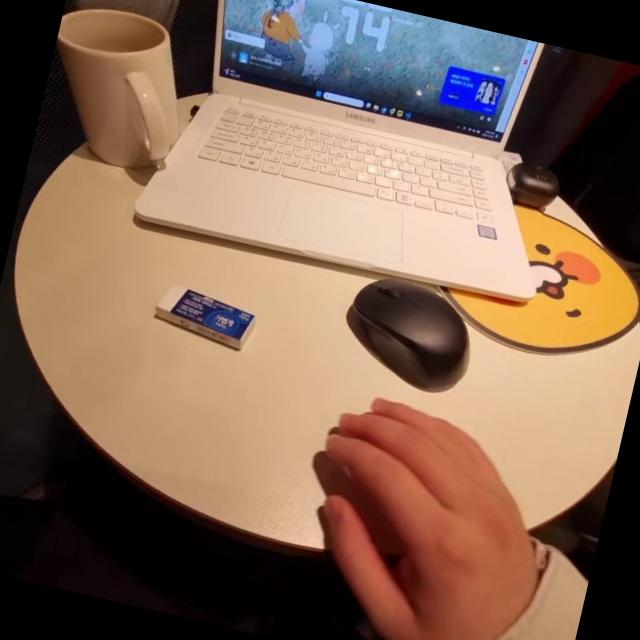eraser: (146, 270, 284, 368)
hand: (243, 356, 584, 640)
mouse: (328, 262, 492, 410)
